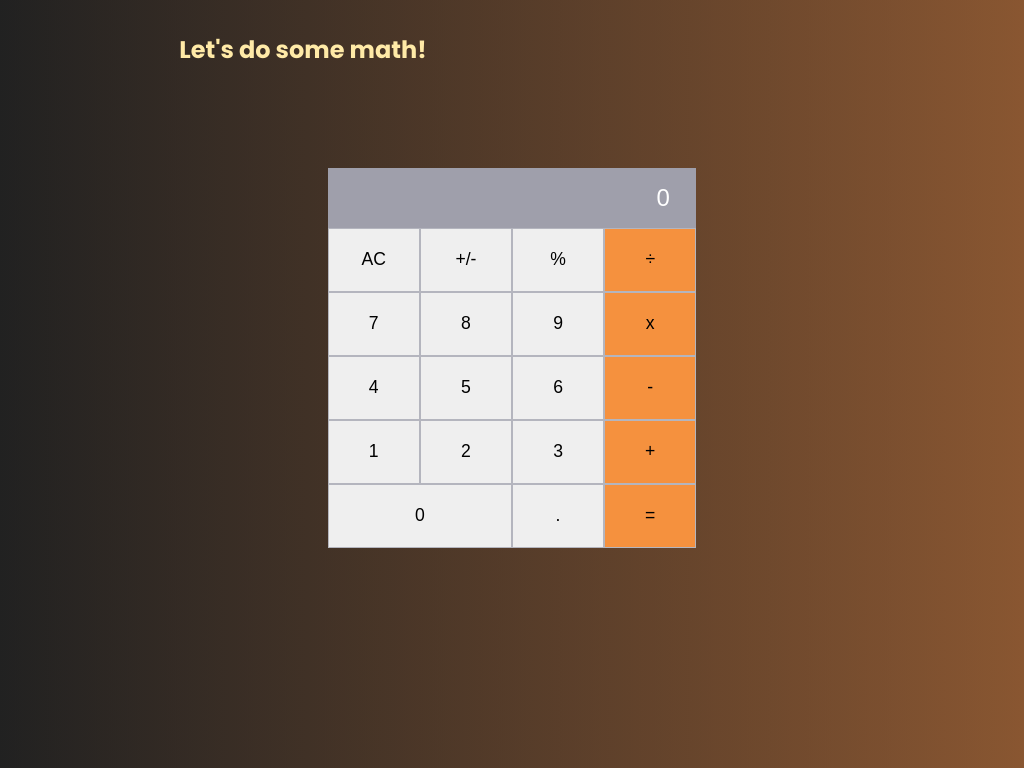
Test: Tests for the calculator component and functions it calls › should correctly add the inputted numbers
The image size is (1024, 768).
Step 1. Click the button "8" → (466, 324), box [420, 292, 512, 356]
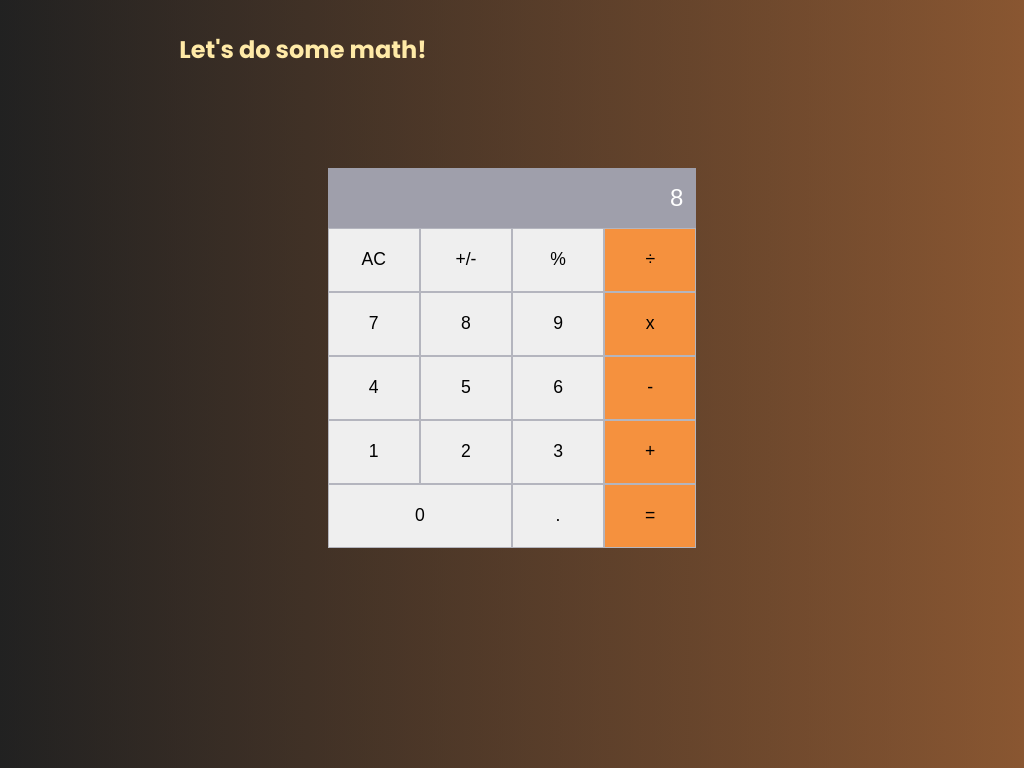
Step 2. Click the button "+" → (650, 452), box [604, 420, 696, 484]
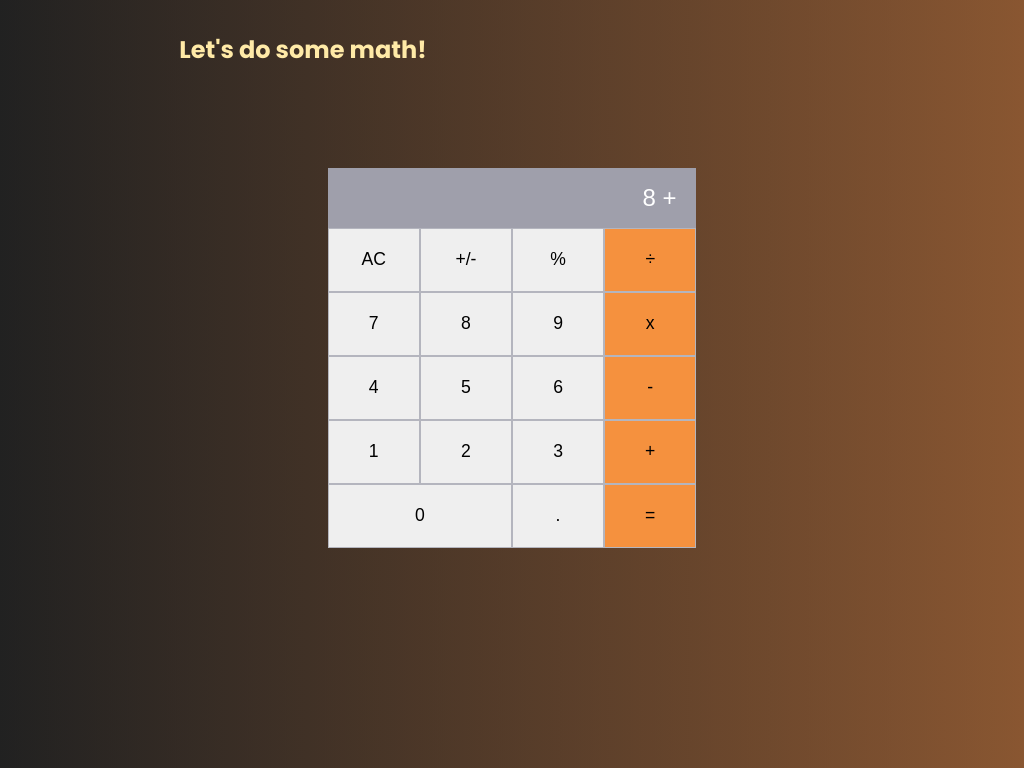
Step 3. Click the button "9" → (558, 324), box [512, 292, 604, 356]
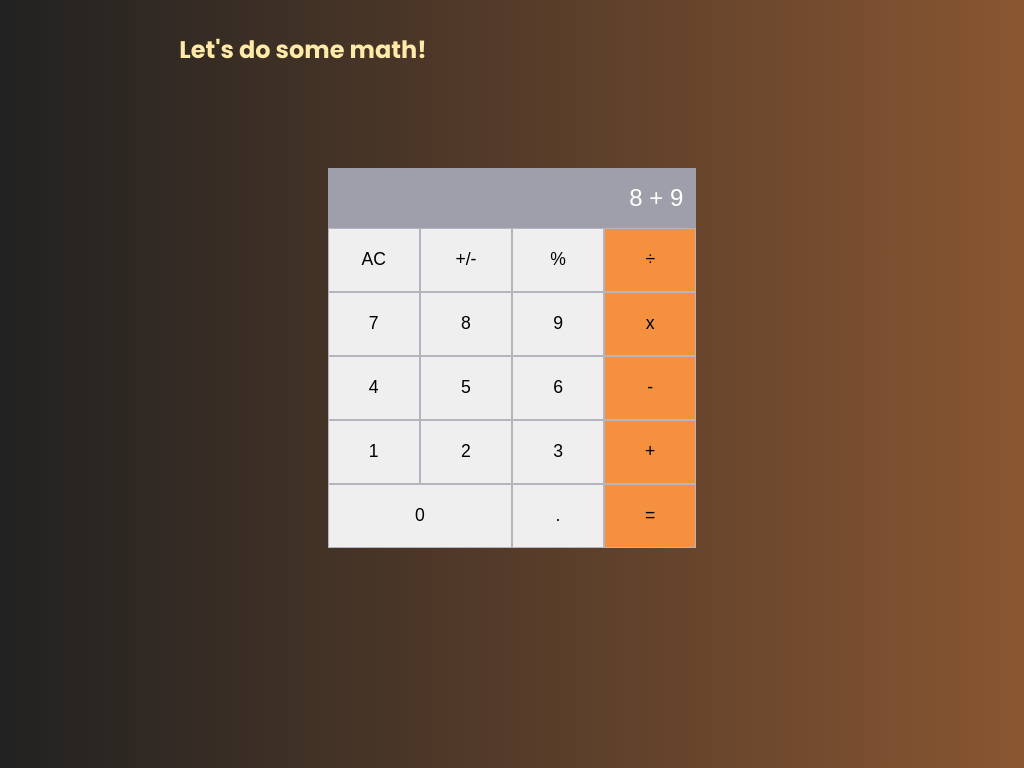
Step 4. Click the button "=" → (650, 516), box [604, 484, 696, 548]
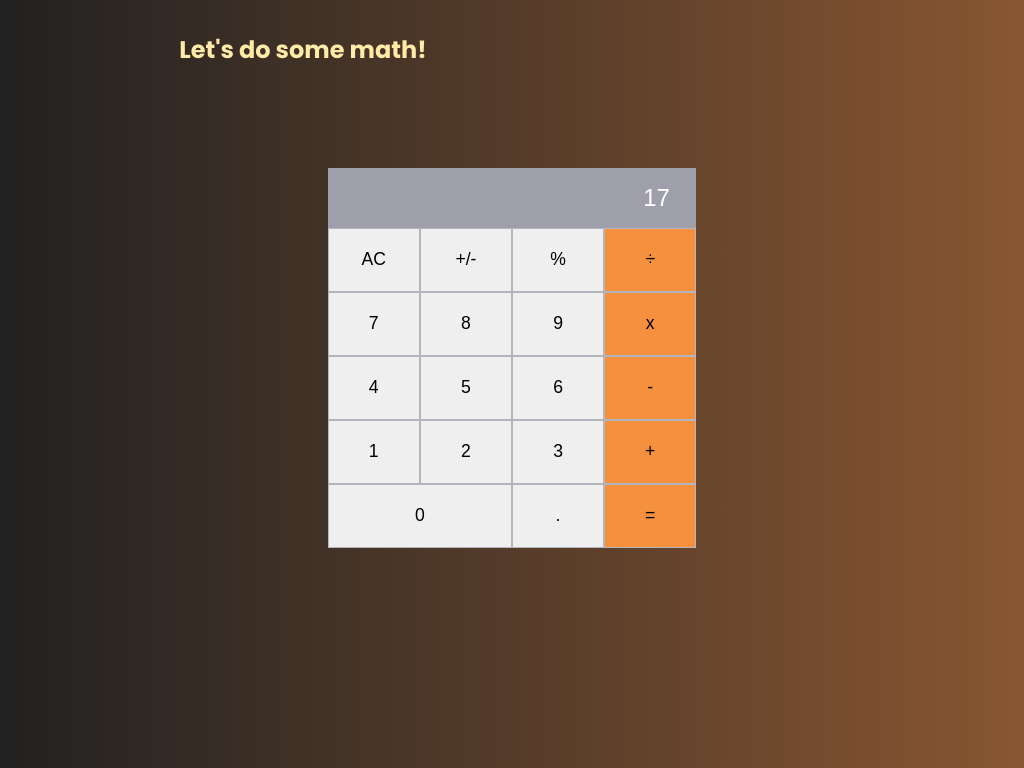
Check: the field with test id "screen" holds "17", box [328, 168, 696, 228]
